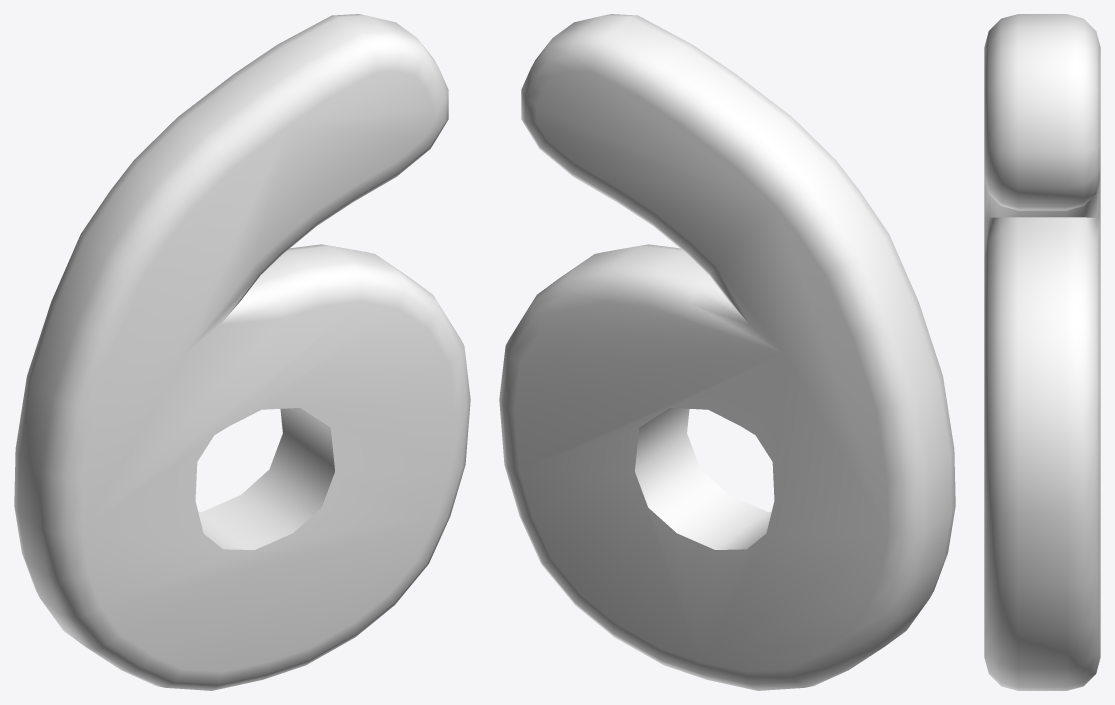
The model's file is NumberSix 2.fbx.
3 renders of one model, left to right at view 1: azimuth 30°, elevation 25°; view 2: azimuth 150°, elevation 25°; view 3: azimuth 270°, elevation 25°, orthographic. The views are drawn at different scales.
Visible parts, largest first — view 1: Vert.019; view 2: Vert.019; view 3: Vert.019.
Part boxes in pixels (x1,y1,x2,y2): Vert.019: (14, 14, 470, 690); Vert.019: (499, 14, 955, 690); Vert.019: (984, 14, 1100, 690).
Size of the model in its own units: 328 by 455 by 69.56.
